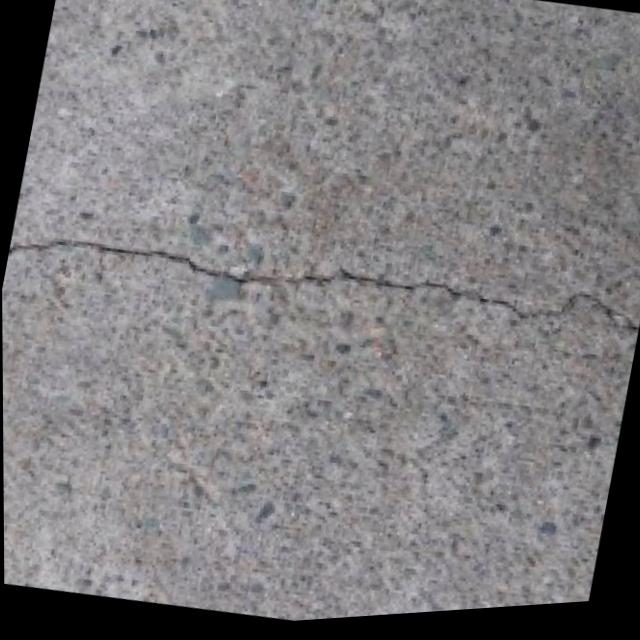Crack: (1, 140, 640, 457)
